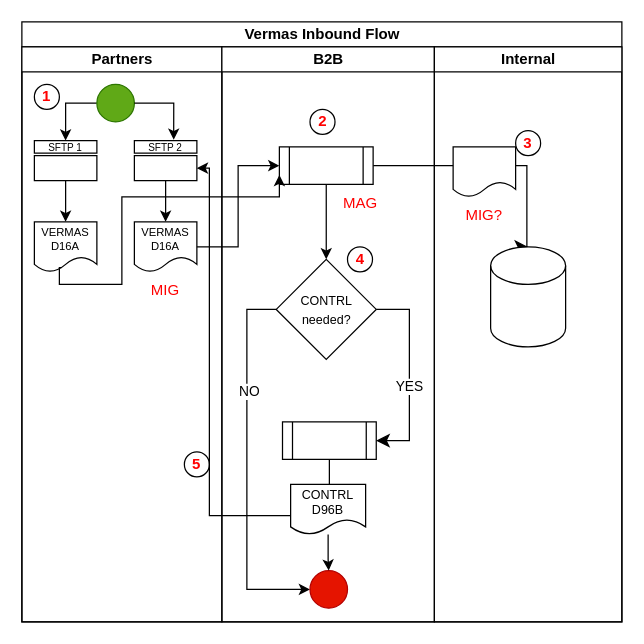
This 644x644 diagram has some shape labels left out. Here are the shapes that lost their labels. From the top down, the centre of each, then its label:
[65,167]: DAKOSY
[165,167]: CARGO
[325,165]: Map to DB structure
[484,171]: VGM data
[527,296]: Oracle DB
[328,440]: Map to CONTRL
